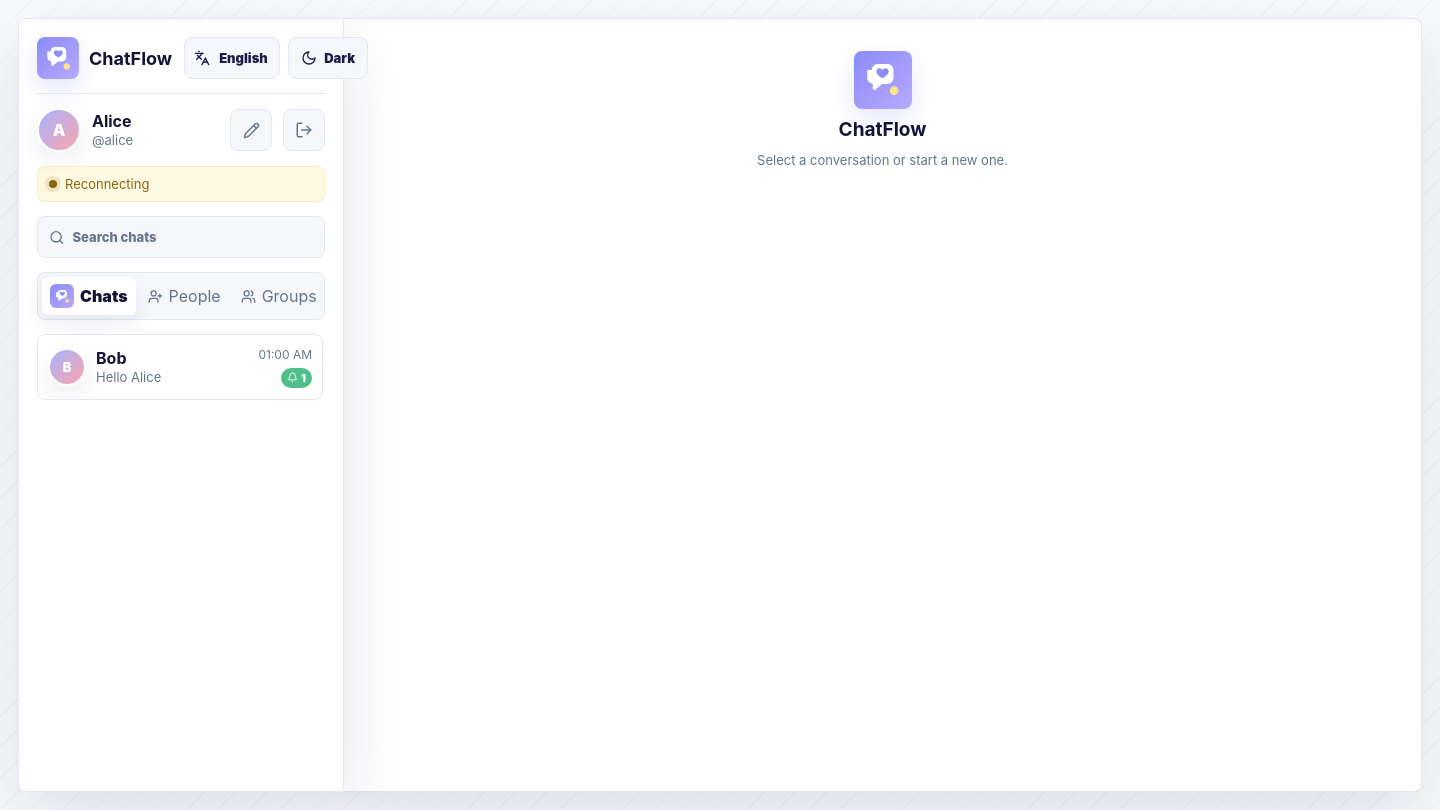
Test: App shell › opens a conversation and renders message history
Step 1. Click the button "B Bob Hello Alice 01:00 AM 1" → (67, 367), box [37,334,323,400]
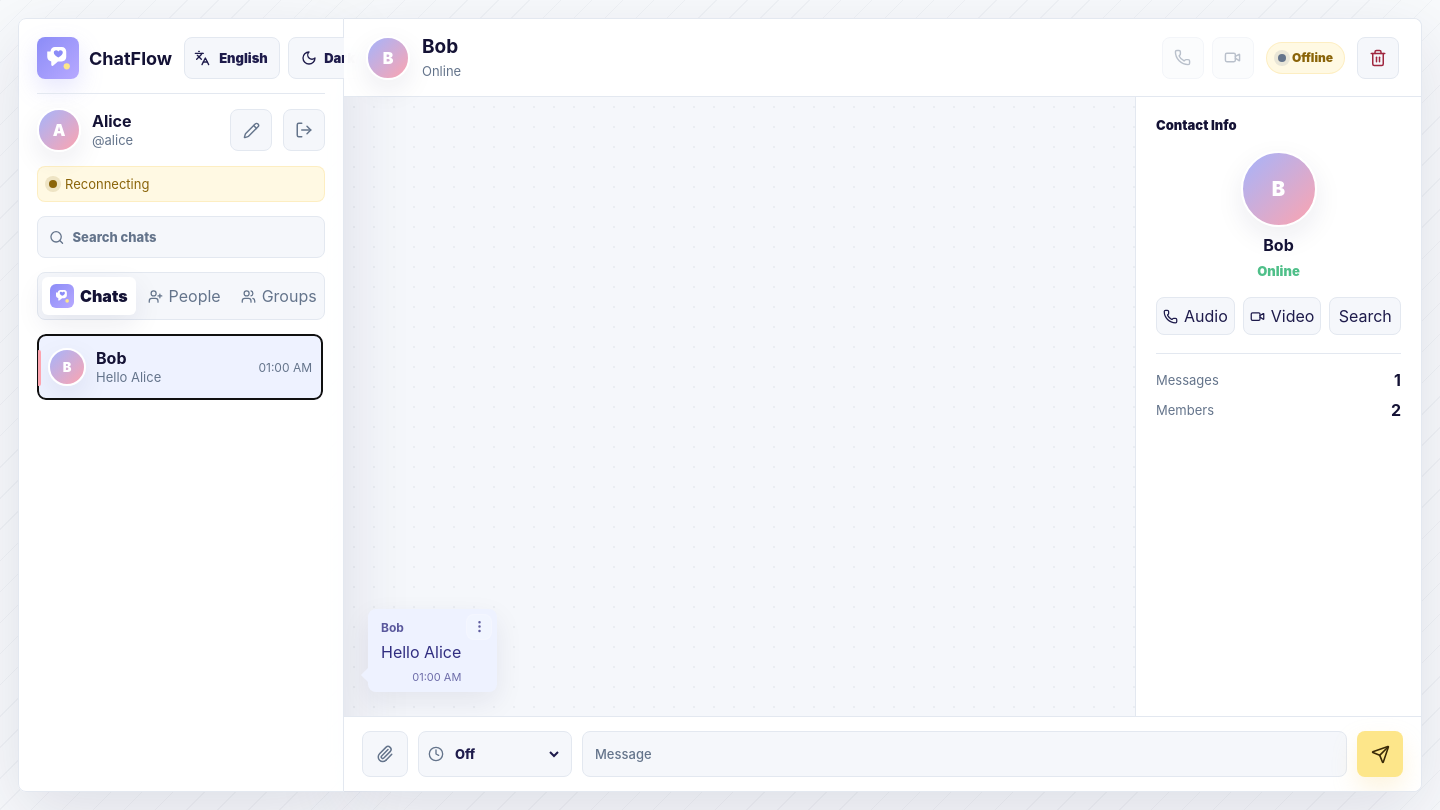
Check: the heading "Bob" is shown, box [422,35,458,58]
